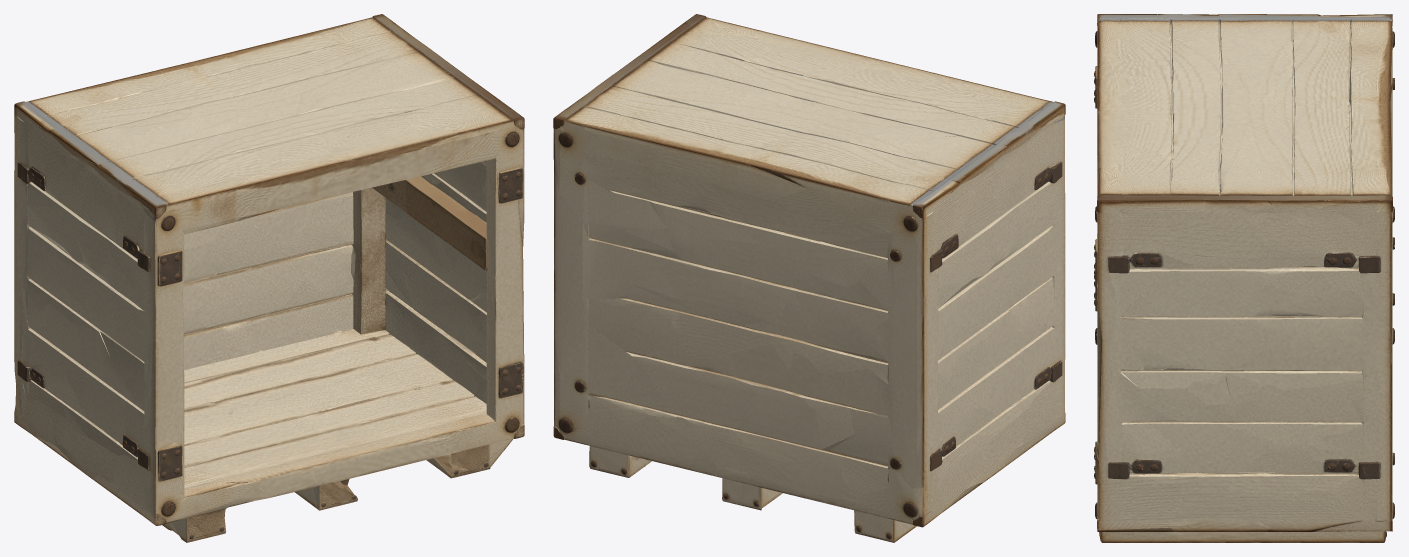
The model's file is crate_open_broken.glb.
3 views of the same model, side by side, from view 1: azimuth 30°, elevation 25°; view 2: azimuth 150°, elevation 25°; view 3: azimuth 270°, elevation 25° (orthographic). The views are drawn at different scales.
Bounding box in the file's own units: 1.9 × 1.68 × 1.27.
1 material, 1 textured.
